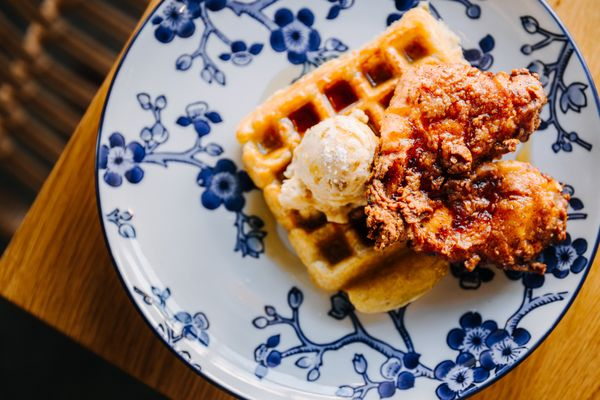curry: (55, 0, 592, 393)
